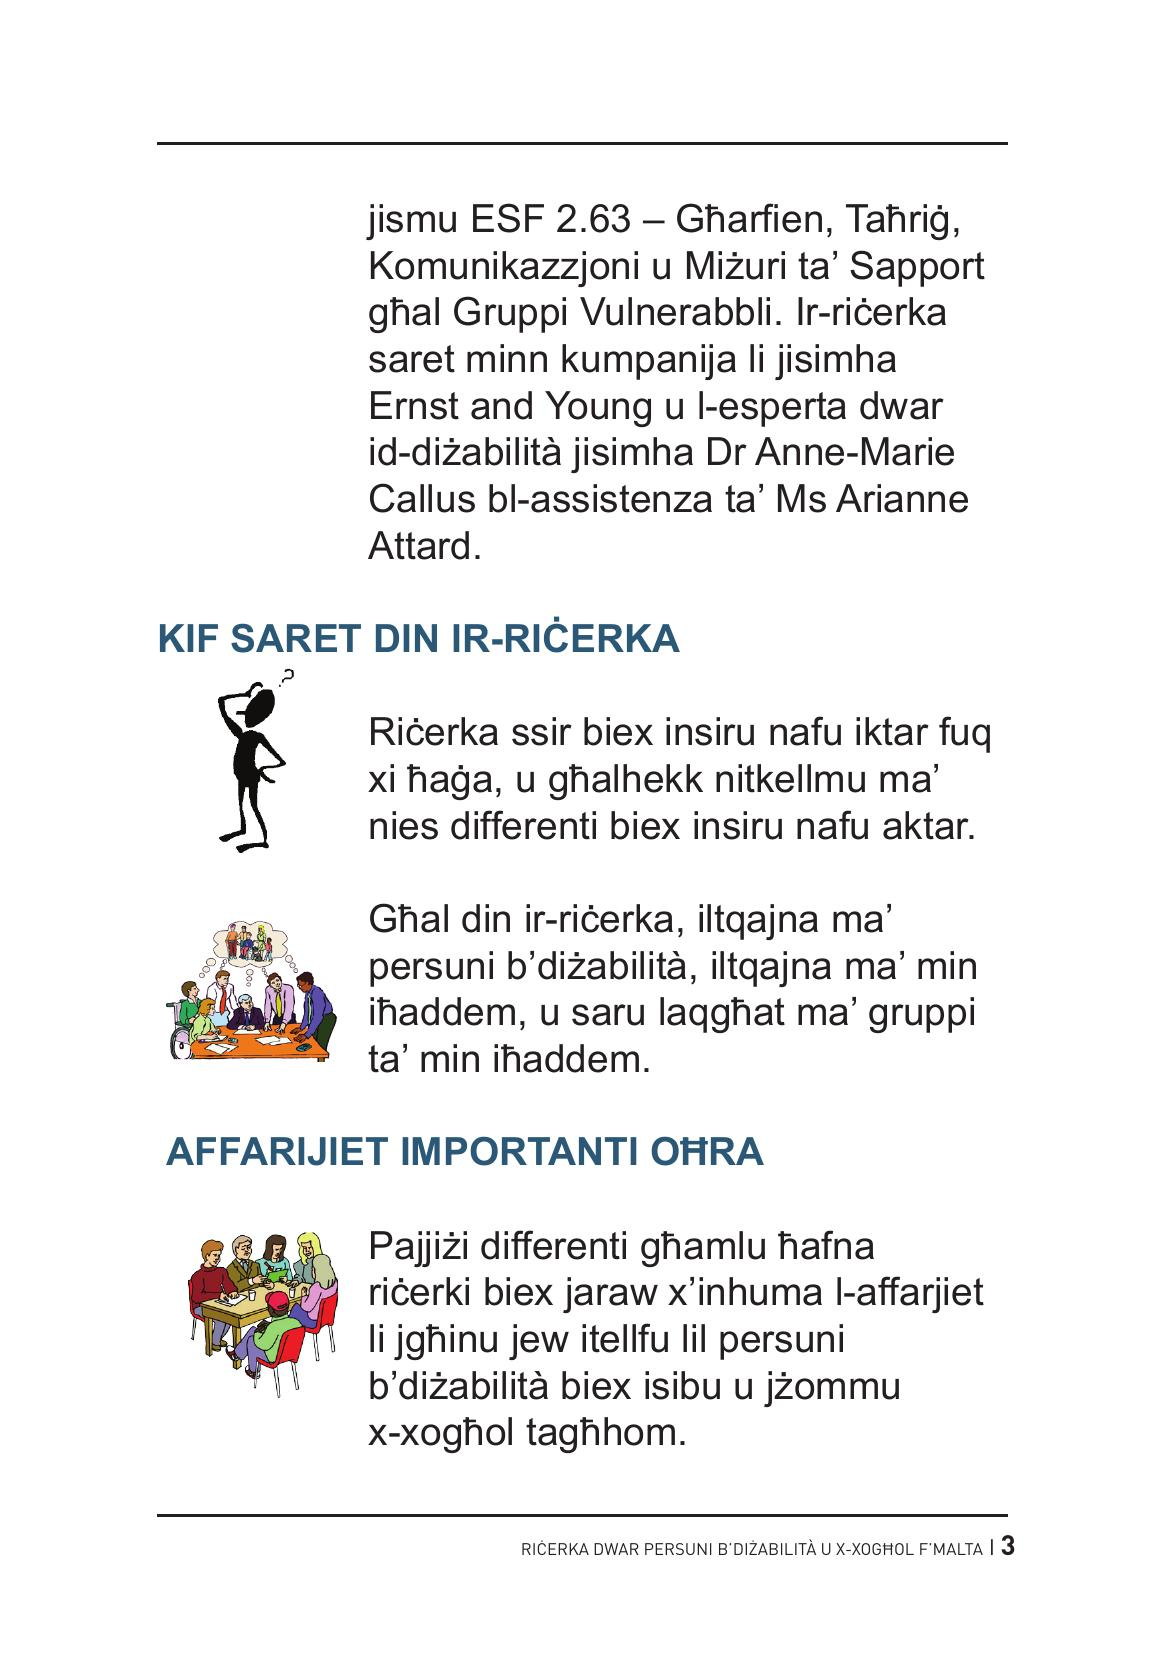text: (334, 177, 1016, 589), (351, 700, 1003, 1098), (358, 1204, 1010, 1475), (126, 1114, 792, 1185), (144, 595, 714, 667)
